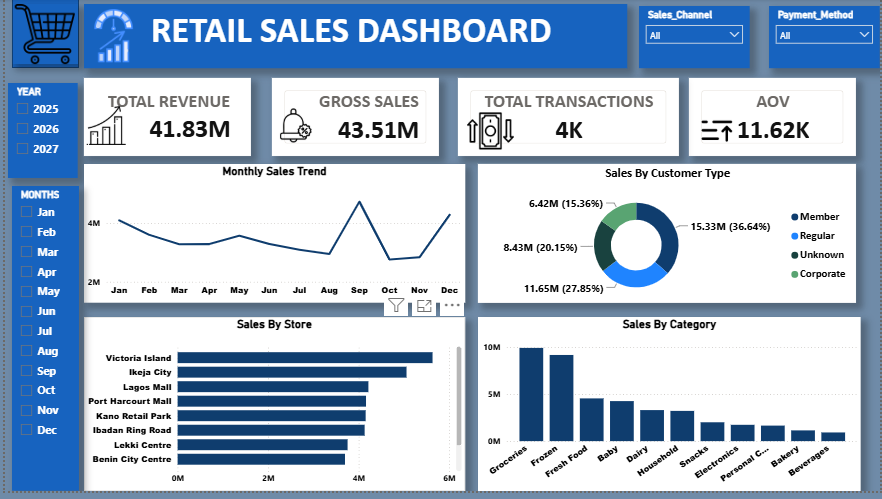

Layout of this report page (visuals, bound fields, positions):
{"tool":"powerbi","page":{"name":"DASHBOARD","canvas":[1280,720],"ordinal":0},"visuals":[{"type":"shape","box":[10.2,0,98,101],"z":0},{"type":"image","box":[10.2,7.3,96.6,87.8],"z":1000},{"type":"textbox","box":[115.6,7.3,794.6,93.7],"z":2000},{"type":"image","box":[106.8,14.6,103.9,77.6],"z":3000},{"type":"slicer","fields":{"Values":["RETAIL_DATA.YEAR"]},"box":[4.4,122.9,102.4,139],"z":4000},{"type":"slicer","fields":{"Values":["RETAIL_DATA.Payment_Method"]},"box":[1118,10.2,162.4,90.7],"z":5000},{"type":"slicer","fields":{"Values":["RETAIL_DATA.Sales_Channel"]},"box":[927.8,10.2,162.4,90.7],"z":6000},{"type":"cardVisual","fields":{"Data":["Sum(RETAIL_DATA.Net_Sales)"]},"box":[115.6,115.6,244.4,114.1],"z":7000},{"type":"cardVisual","fields":{"Data":["MONTHLY_TARGET.AOV"]},"box":[1001,115.6,244.4,114.1],"z":8000},{"type":"cardVisual","fields":{"Data":["Sum(RETAIL_DATA.Gross_Sales)"]},"box":[390.7,115.6,244.4,114.1],"z":9000},{"type":"cardVisual","fields":{"Data":["MONTHLY_TARGET.TOTAL TRANSACTION"]},"box":[662.9,115.6,323.4,114.1],"z":10000},{"type":"image","box":[662.9,156.6,95.1,73.2],"z":11000},{"type":"image","box":[115.6,156.6,65.9,57.1],"z":12000},{"type":"image","box":[1009.8,163.9,64.4,58.5],"z":13000},{"type":"image","box":[379,156.6,92.2,57.1],"z":14000},{"type":"lineChart","title":"Monthly Sales Trend","fields":{"Category":["RETAIL_DATA.MONTHS"],"Y":["Sum(RETAIL_DATA.Net_Sales)"]},"box":[115.6,241.5,557.6,203.4],"z":15000},{"type":"clusteredBarChart","title":"Sales By Store","fields":{"Category":["RETAIL_DATA.Store_Name"],"Y":["Sum(RETAIL_DATA.Net_Sales)"]},"box":[115.6,465.4,557.6,254.6],"z":16000},{"type":"clusteredColumnChart","title":"Sales By Category","fields":{"Y":["Sum(RETAIL_DATA.Net_Sales)"],"Category":["RETAIL_DATA.Category"]},"box":[692.2,465.4,560.5,254.6],"z":17000},{"type":"donutChart","title":"Sales By Customer Type","fields":{"Category":["RETAIL_DATA.Customer_Type"],"Y":["Sum(RETAIL_DATA.Net_Sales)"]},"box":[692.2,241.5,553.2,203.4],"z":18000},{"type":"slicer","fields":{"Values":["RETAIL_DATA.MONTHS"]},"box":[10.2,273.7,98,446.3],"z":19000}]}

Visuals, with their boxes in screenshot pixels (x1, y1, x2, y2), scaled from the page's 1280x720 canvas onto the 882x499 screenshot:
shape: rect(7, 0, 75, 70)
image: rect(7, 5, 74, 66)
textbox: rect(80, 5, 627, 70)
image: rect(74, 10, 145, 64)
slicer - RETAIL_DATA.YEAR: rect(3, 85, 74, 182)
slicer - RETAIL_DATA.Payment_Method: rect(770, 7, 881, 70)
slicer - RETAIL_DATA.Sales_Channel: rect(639, 7, 751, 70)
cardVisual - Sum(RETAIL_DATA.Net_Sales): rect(80, 80, 248, 159)
cardVisual - MONTHLY_TARGET.AOV: rect(690, 80, 858, 159)
cardVisual - Sum(RETAIL_DATA.Gross_Sales): rect(269, 80, 438, 159)
cardVisual - MONTHLY_TARGET.TOTAL TRANSACTION: rect(457, 80, 680, 159)
image: rect(457, 109, 522, 159)
image: rect(80, 109, 125, 148)
image: rect(696, 114, 740, 154)
image: rect(261, 109, 325, 148)
"Monthly Sales Trend" lineChart: rect(80, 167, 464, 308)
"Sales By Store" clusteredBarChart: rect(80, 323, 464, 498)
"Sales By Category" clusteredColumnChart: rect(477, 323, 863, 498)
"Sales By Customer Type" donutChart: rect(477, 167, 858, 308)
slicer - RETAIL_DATA.MONTHS: rect(7, 190, 75, 498)
